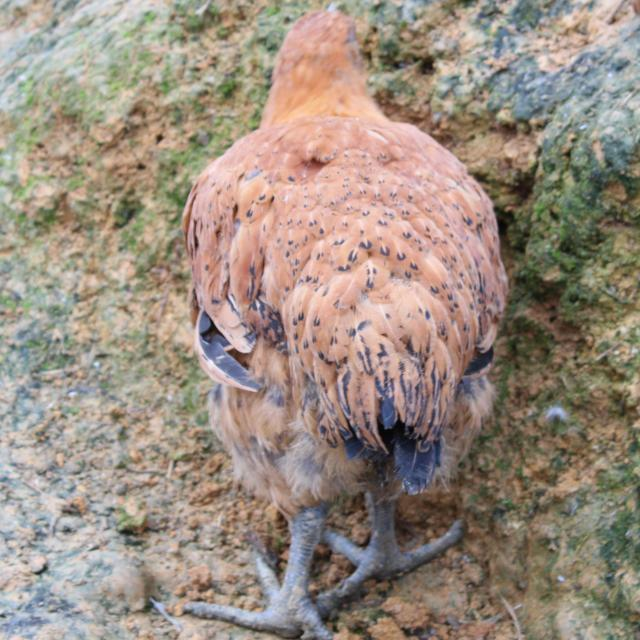hen: (184, 11, 507, 640)
